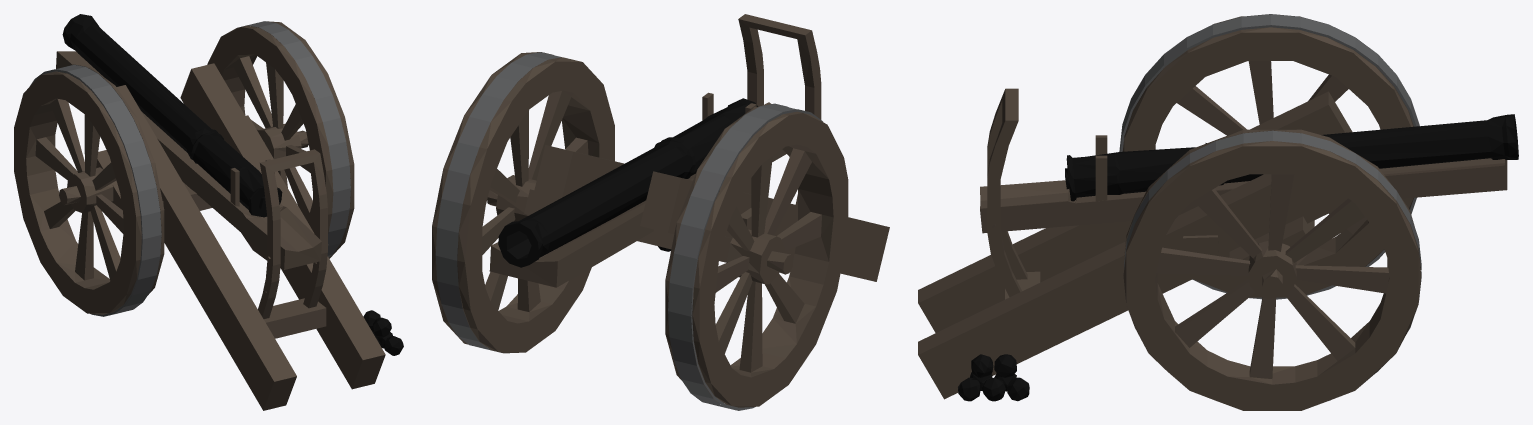
Rendered from cannon.lod0.glb.
The picture shows the model from 3 angles, left to right: view 1: azimuth 30°, elevation 25°; view 2: azimuth 150°, elevation 25°; view 3: azimuth 270°, elevation 25°; orthographic projection. The views are drawn at different scales.
Visible parts, largest first — view 1: Ruote.001_0; view 2: Ruote.001_0; view 3: Ruote.001_0.
Part boxes in pixels (x1,y1,x2,y2): Ruote.001_0: (14, 14, 403, 410); Ruote.001_0: (432, 14, 889, 410); Ruote.001_0: (918, 14, 1518, 410).
Bounding box in the file's own units: 1.28 × 1.24 × 2.3.
